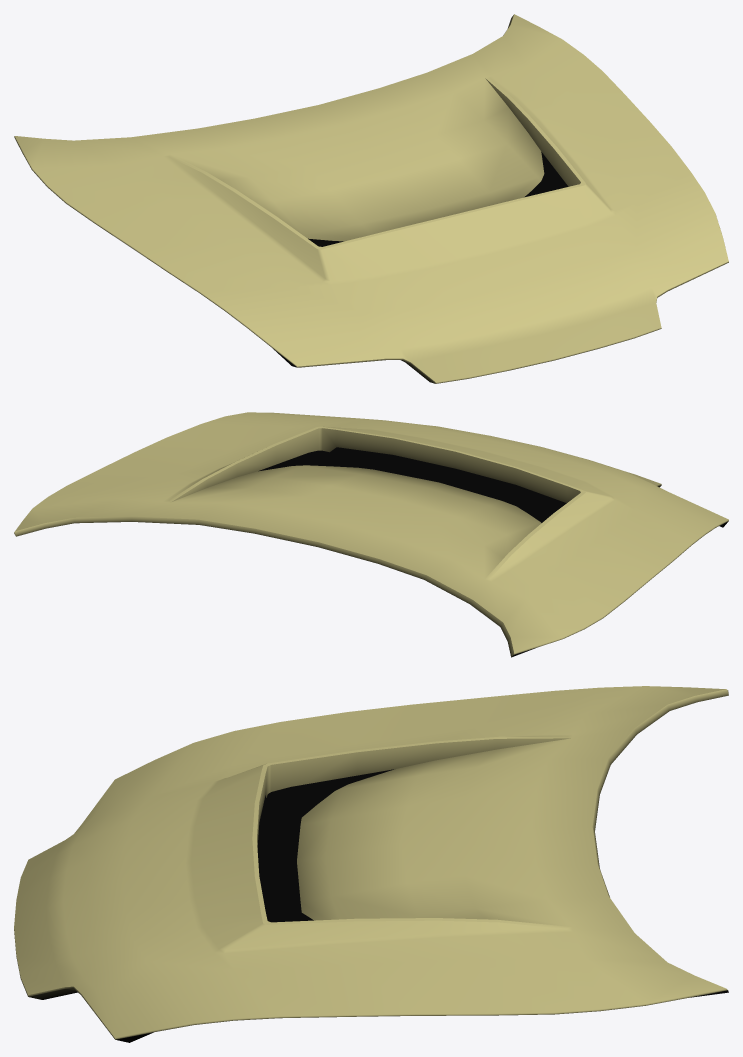
File: Supra_Bonnet_04_Duco.fbx
3 views of the same model, one above another, from view 1: azimuth 30°, elevation 25°; view 2: azimuth 150°, elevation 25°; view 3: azimuth 270°, elevation 25° (orthographic). The views are drawn at different scales.
Visible parts, largest first — view 1: Supra_Bonnet_04_Duco; view 2: Supra_Bonnet_04_Duco; view 3: Supra_Bonnet_04_Duco.
Boxes of the visible parts, x1,y1,x2,y2 form: Supra_Bonnet_04_Duco: (14,14,728,383); Supra_Bonnet_04_Duco: (14,412,728,657); Supra_Bonnet_04_Duco: (14,686,728,1042).
Size of the model in its own units: 157 by 24.03 by 147.
